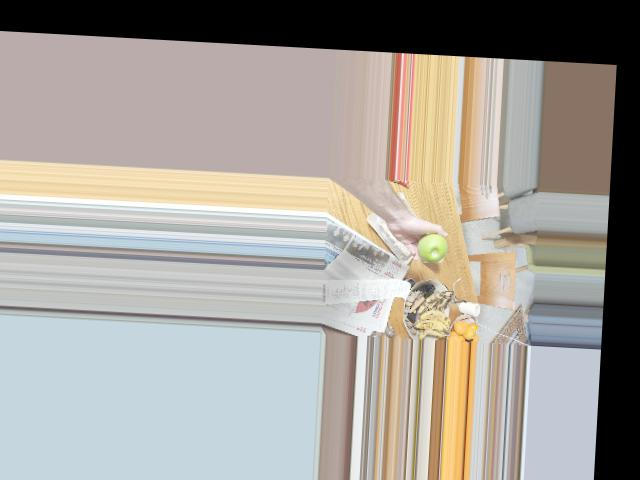apple: (412, 229, 454, 266)
